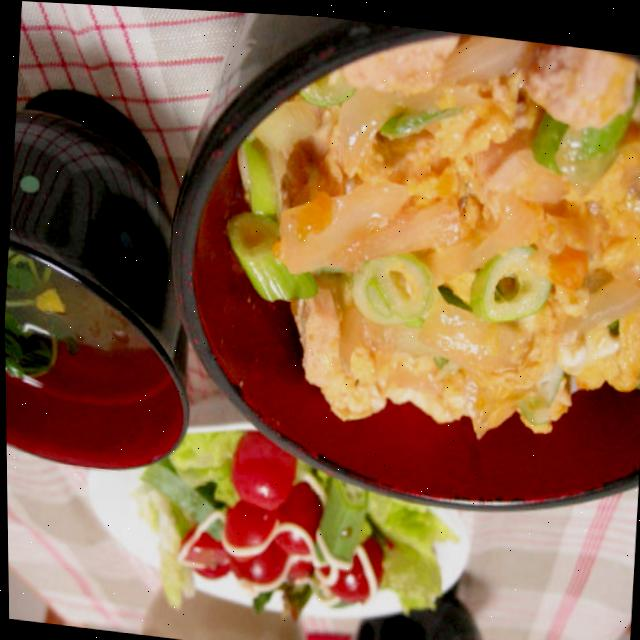米饭主食: (141, 6, 640, 532)
